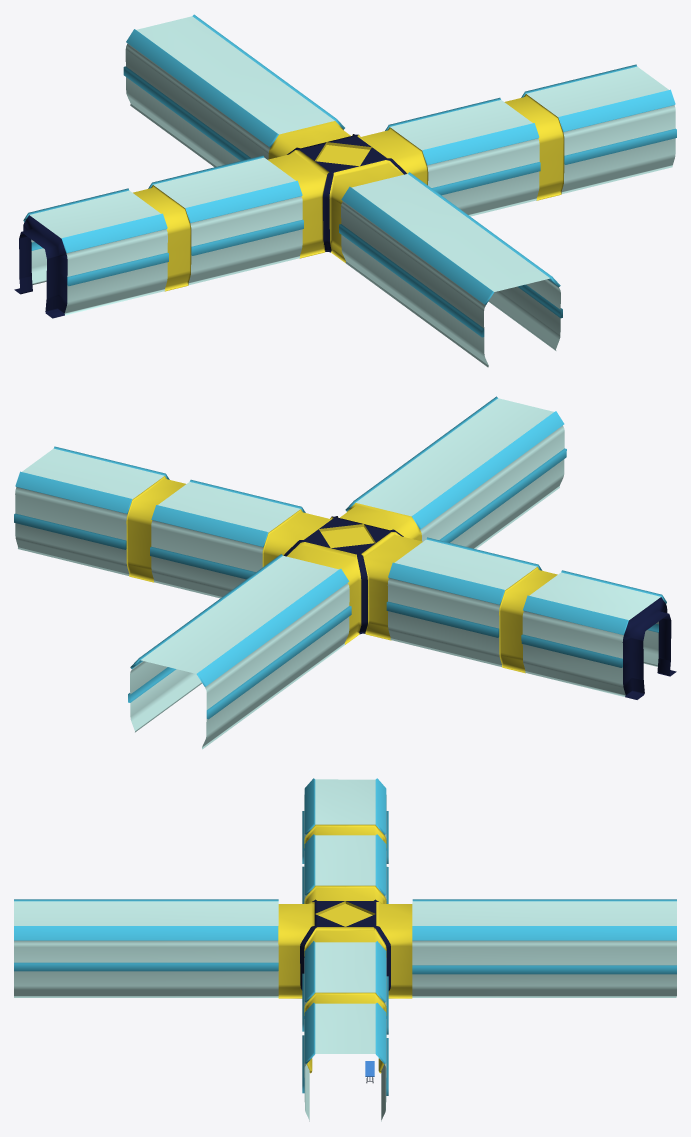
Rendered from Title_OB_01.fbx.
The picture shows the model from 3 angles, top to bottom: view 1: azimuth 30°, elevation 25°; view 2: azimuth 150°, elevation 25°; view 3: azimuth 270°, elevation 25°; orthographic projection. The views are drawn at different scales.
Parts seen in each view (by area): view 1: kabe; view 2: kabe; view 3: kabe.
Boxes of the visible parts, x1,y1,x2,y2 form: kabe: [14, 14, 676, 367]; kabe: [14, 396, 676, 749]; kabe: [14, 778, 676, 1121].
Bounding box in the file's own units: 3796 × 450 × 3796.
2 materials, 2 textured.
